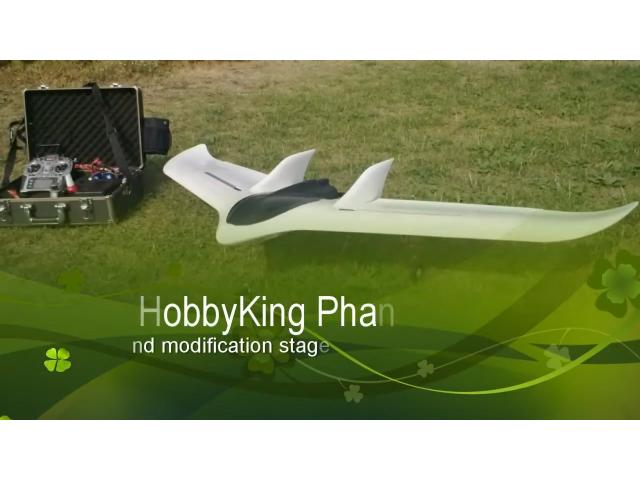Anti-Drone: (135, 120, 640, 269)
